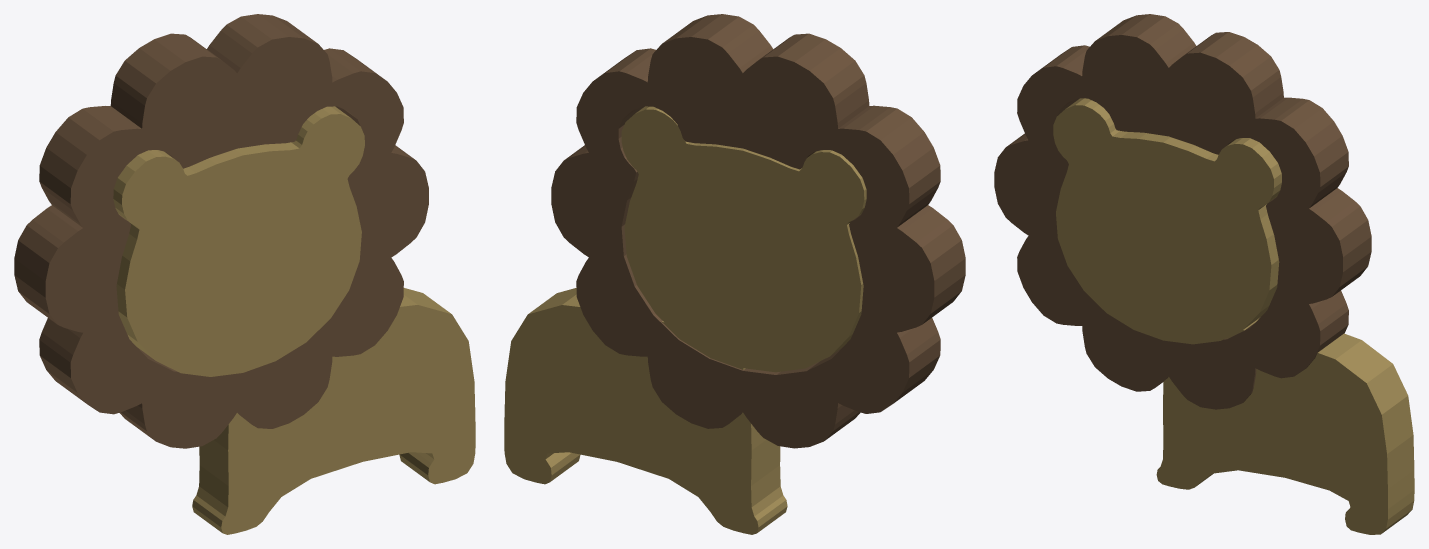
The picture shows the model from 3 angles, left to right: view 1: azimuth 30°, elevation 25°; view 2: azimuth 150°, elevation 25°; view 3: azimuth 330°, elevation 25°; orthographic projection. The views are drawn at different scales.
Parts seen in each view (by area): view 1: 円, 平面.001, 平面.002; view 2: 円, 平面.001, 平面.002; view 3: 円, 平面.001, 平面.002.
Part boxes in pixels (<box>): 円: <box>14,14,428,448</box>; 平面.001: <box>113,106,364,376</box>; 平面.002: <box>192,288,475,534</box>; 円: <box>551,14,965,448</box>; 平面.001: <box>621,106,866,372</box>; 平面.002: <box>504,288,787,534</box>; 円: <box>994,14,1371,409</box>; 平面.001: <box>1053,98,1281,344</box>; 平面.002: <box>1156,318,1414,534</box>.
Size of the model in its own units: 4.01 by 4.32 by 0.6005.
